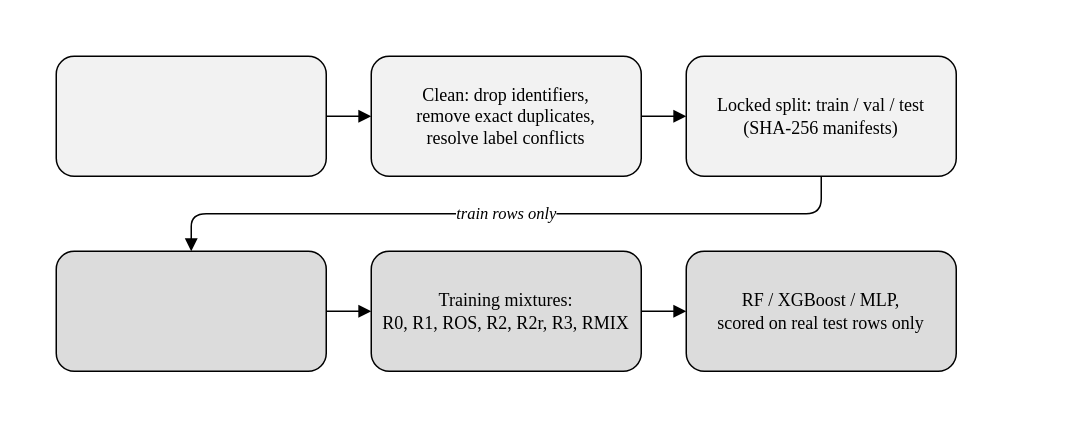
The diagram is 1071 pixels wide and 441 high, and some of its shapes have lost their labels. Each missing label, with the centre of its shape:
"Per-class generators (train rows only): SMOTE, Copula, CTGAN, TVAE" goes at point 190,310.
"Raw flow files (CIC-IDS2017, UNSW-NB15)" goes at point 190,115.
